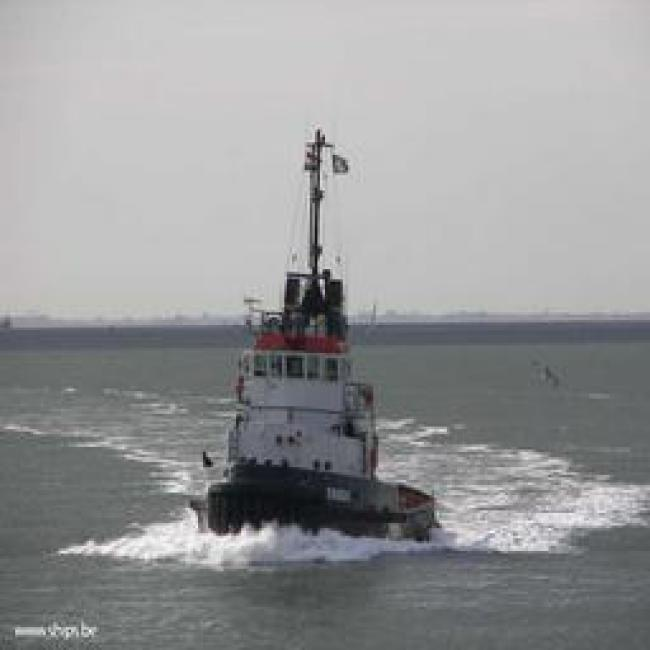Ship: (135, 238, 446, 550)
